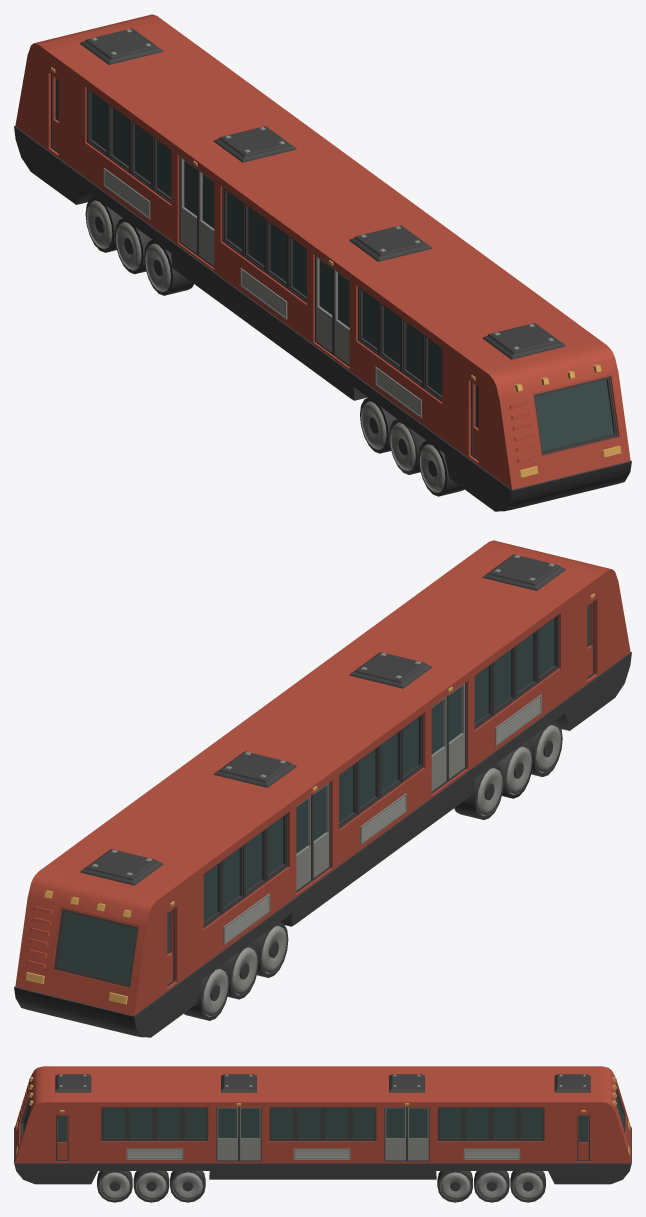
File: Subway_Car_FBX.fbx
3 renders of one model, top to bottom at view 1: azimuth 30°, elevation 25°; view 2: azimuth 150°, elevation 25°; view 3: azimuth 270°, elevation 25°, orthographic. The views are drawn at different scales.
Visible parts, largest first — view 1: Subway Car; view 2: Subway Car; view 3: Subway Car.
Part boxes in pixels (left/top/right/bottom): Subway Car: left=14, top=14, right=631, bottom=511; Subway Car: left=14, top=540, right=631, bottom=1037; Subway Car: left=14, top=1066, right=631, bottom=1202.
Size of the model in its own units: 272 by 362 by 1936.
1 material, 1 textured.
